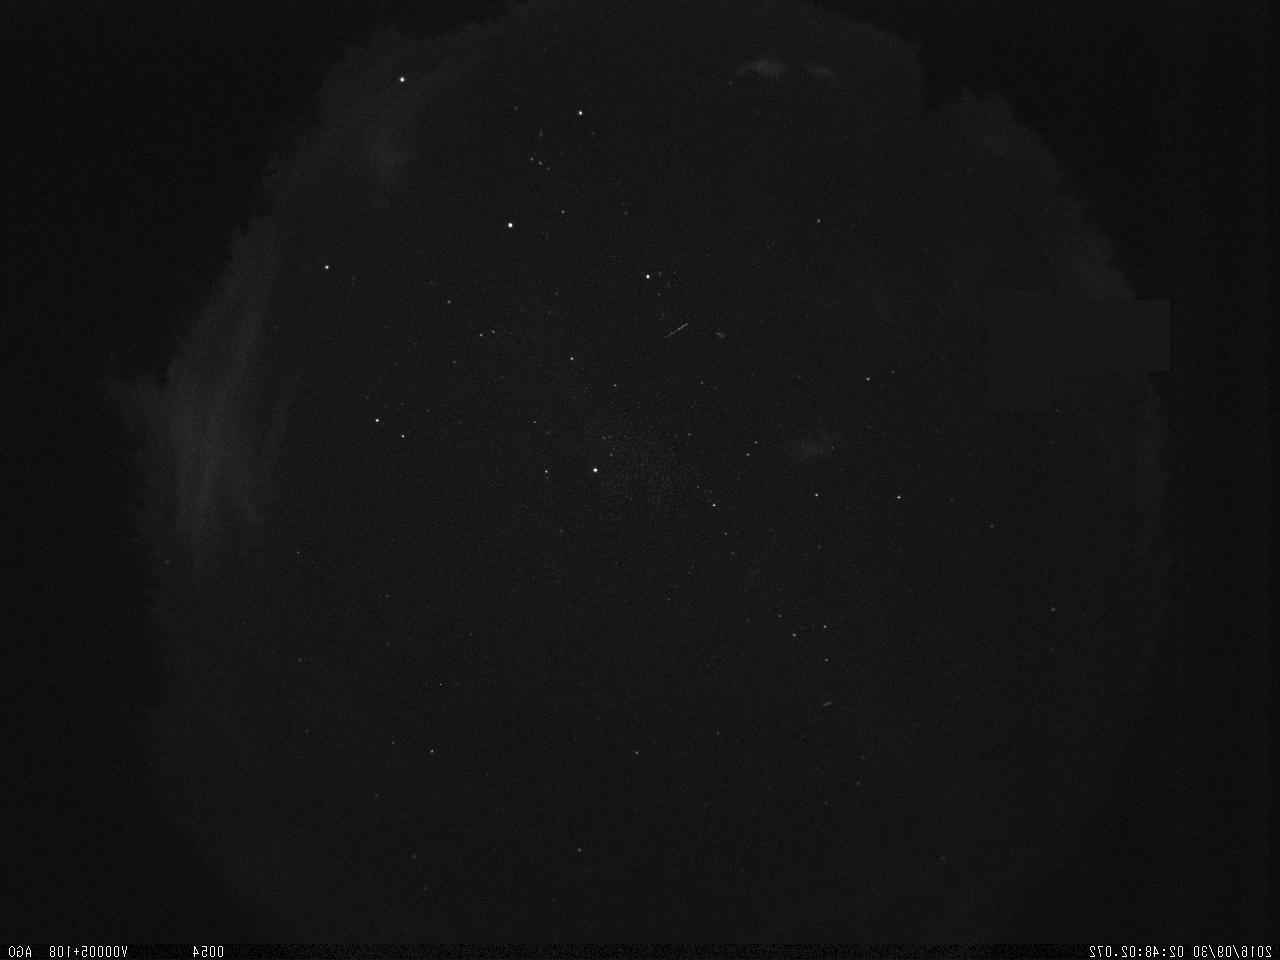meteor: (640, 308, 694, 356)
